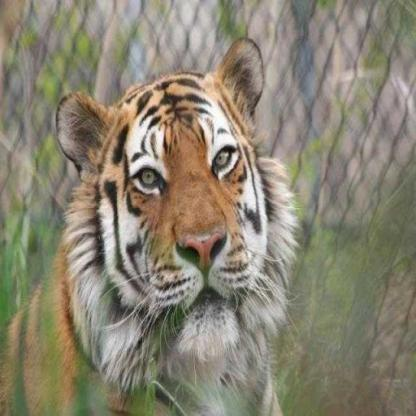Tiger: (0, 43, 356, 413)
